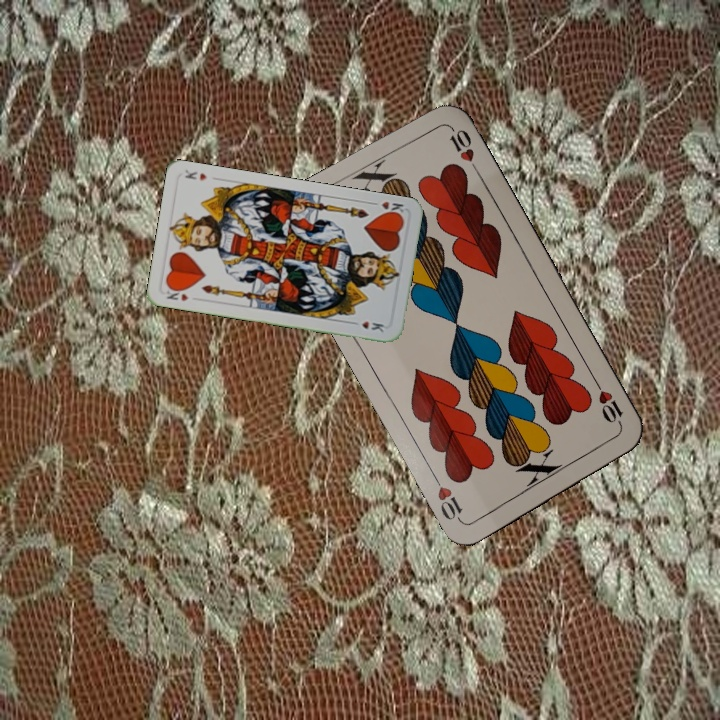H10: (590, 376, 626, 431)
HK: (367, 197, 407, 219), (162, 283, 191, 304)
